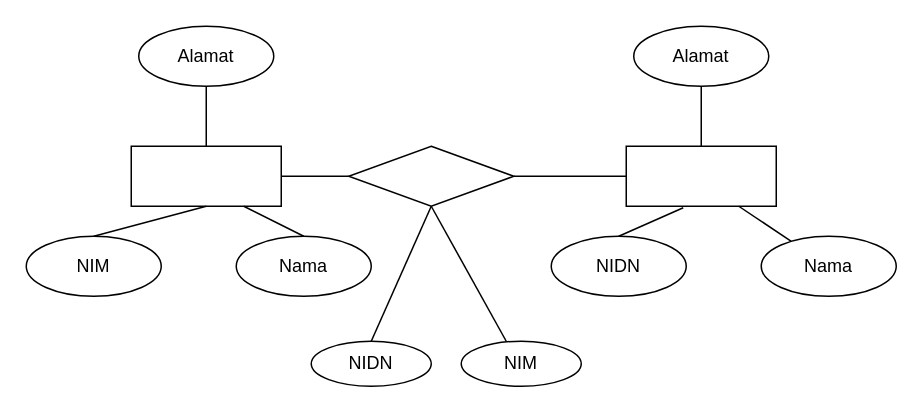
Some shapes in this 923 by 413 pixel diagram are drawn without their labels. Here are the shapes that lost their labels. From the top down, the centre of each, then its label:
point 205,175: Mahasiswa
point 430,175: membimbing
point 700,175: Dosen
